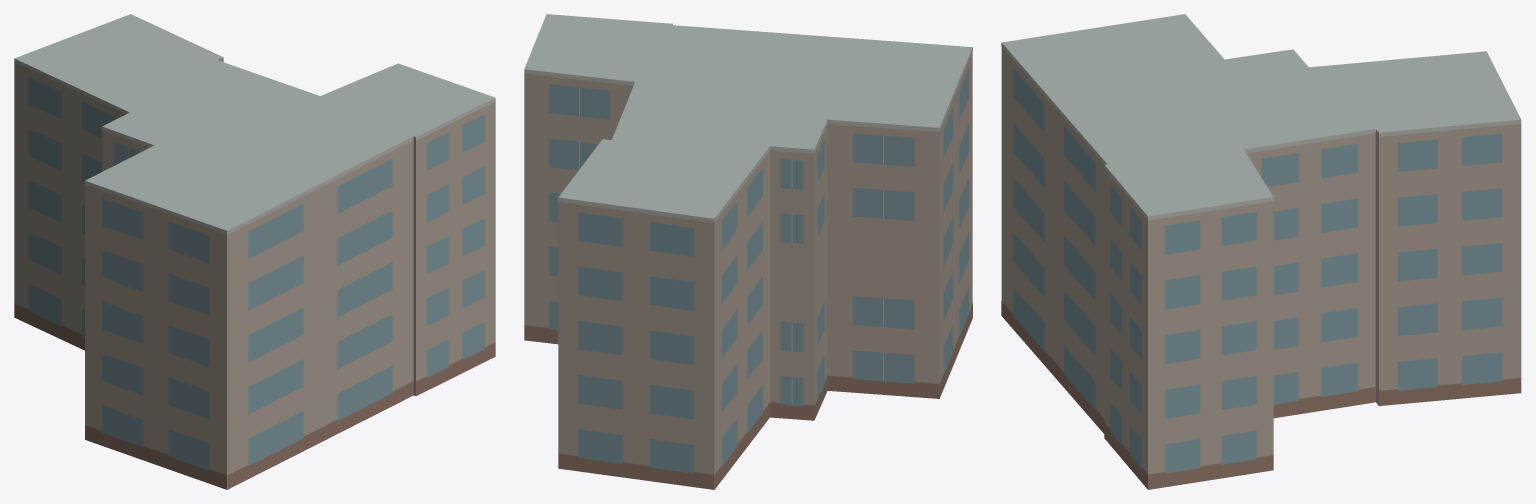
Rendered from survey-upis-32688368.glb.
3 renders of one model, left to right at view 1: azimuth 30°, elevation 25°; view 2: azimuth 150°, elevation 25°; view 3: azimuth 270°, elevation 25°, orthographic. The views are drawn at different scales.
Parts seen in each view (by area): view 1: survey-upis-32688368.tmp; view 2: survey-upis-32688368.tmp; view 3: survey-upis-32688368.tmp.
Part boxes in pixels (left/top/right/bottom): survey-upis-32688368.tmp: left=14, top=14, right=495, bottom=489; survey-upis-32688368.tmp: left=524, top=14, right=972, bottom=489; survey-upis-32688368.tmp: left=1001, top=14, right=1521, bottom=489.
Size of the model in its own units: 25.02 by 15.75 by 27.15.
